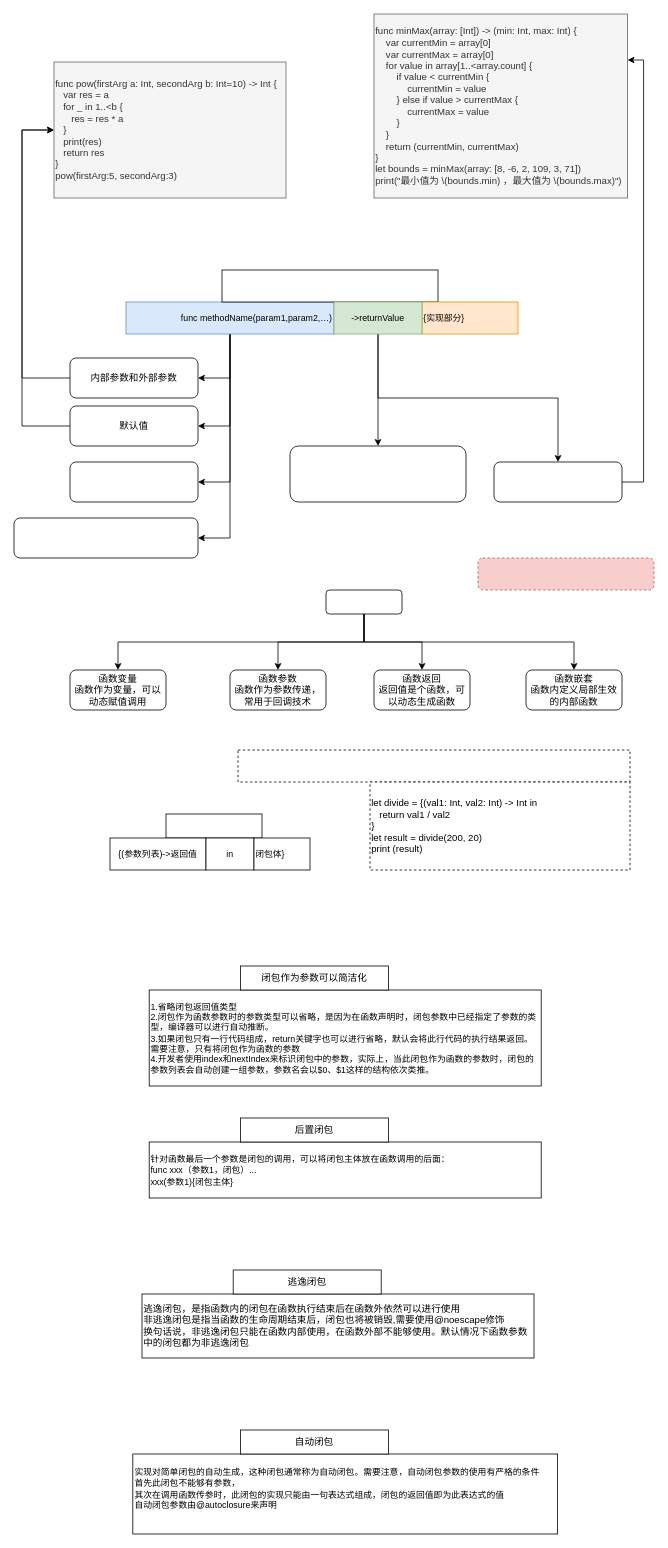
Image size: 668x1548. Some labels were removed from this diagram. Each missing label, with the box of its shape:
Any类型在Swift语言中代表任意类型 as!的作用是类型转换: (477, 557, 654, 590)
inout参数 支持对外部参数修改，传递地址（&开头）: (13, 517, 198, 558)
一个完整的函数声明和实现应该符合如下格式：: (221, 269, 438, 302)
函数用法: (325, 589, 402, 614)
可变参数（...）: (69, 461, 198, 502)
返回值Optional 可选值类型 来标识函数执行是否成功，在调用函数时使用if-let结构 做安全性检查: (289, 445, 466, 502)
返回值类型为元组 支持返回多个类型的返回值: (493, 461, 622, 502)
闭包: (165, 813, 262, 838)
闭包的设计大多数情况下并 不是为了代码的复用，而是传递功能代码块和处理回调结构 return的数据类型作为返回值类型: (237, 749, 630, 782)
